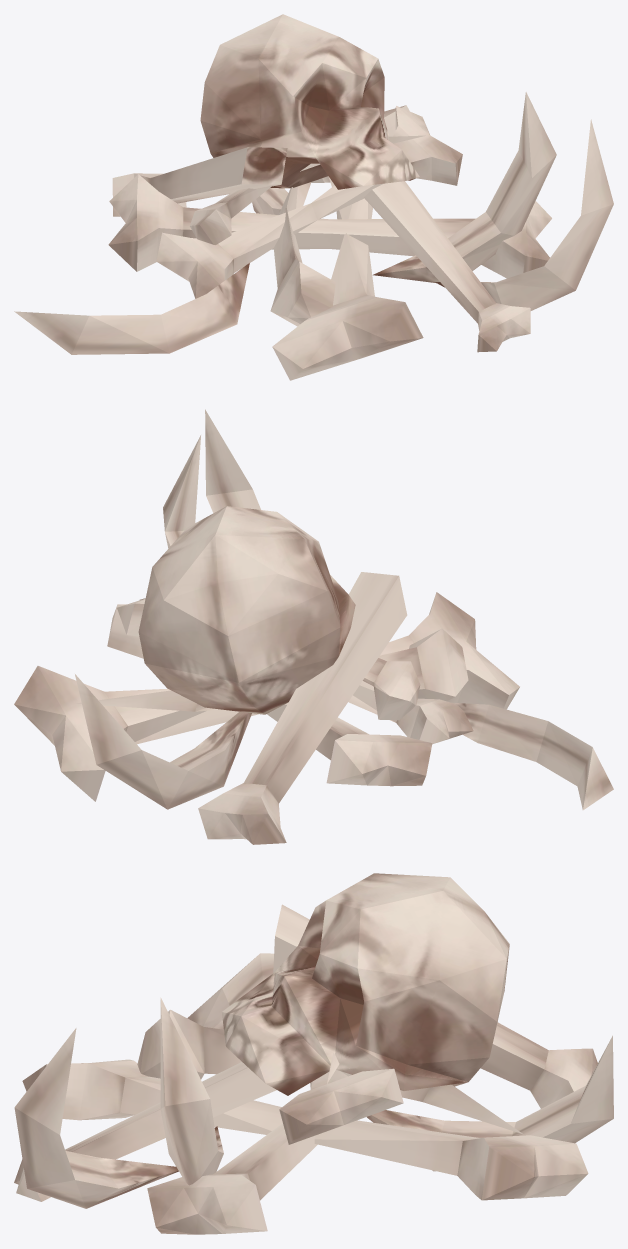
File: bones.glb
3 views of the same model, one above another, from view 1: azimuth 30°, elevation 25°; view 2: azimuth 150°, elevation 25°; view 3: azimuth 270°, elevation 25° (orthographic). The views are drawn at different scales.
Visible parts, largest first — view 1: Object_2; view 2: Object_2; view 3: Object_2.
Boxes of the visible parts, x1,y1,x2,y2 form: Object_2: (14,14,613,380); Object_2: (14,409,613,844); Object_2: (14,873,613,1234).
Size of the model in its own units: 85.93 by 40.99 by 75.4.
1 material, 1 textured.
